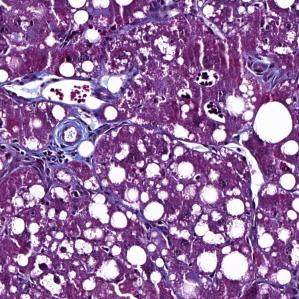fibrosis: (47, 116, 108, 165)
